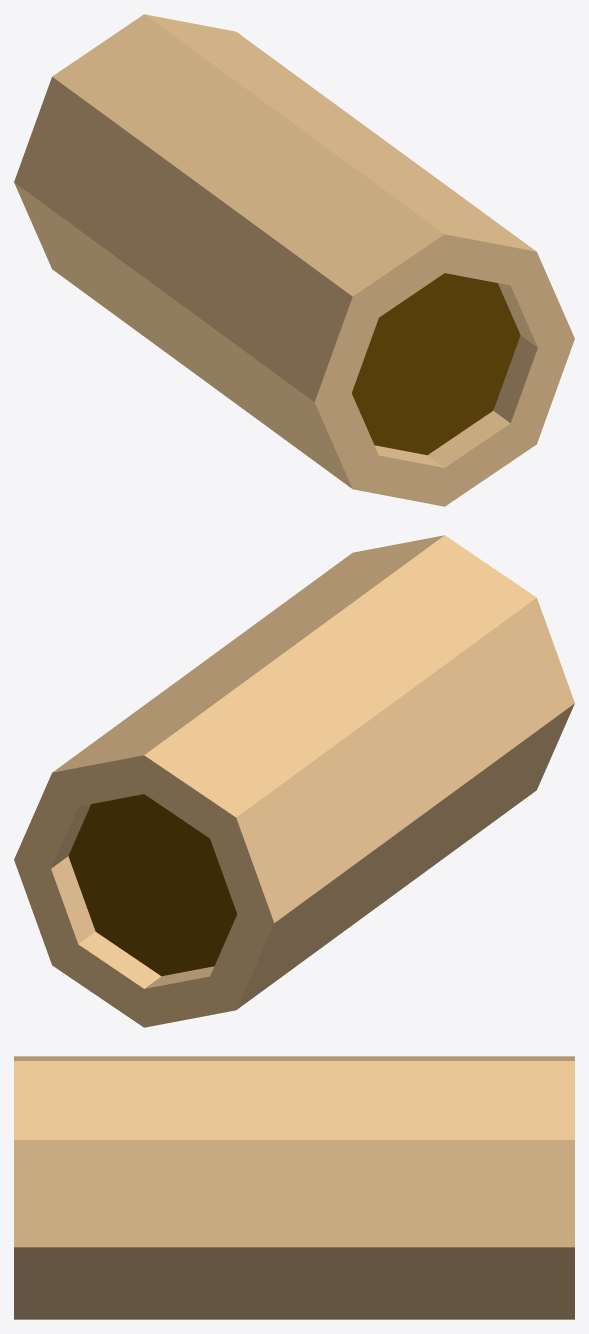
The model's file is Burrito.fbx.
3 views of the same model, one above another, from view 1: azimuth 30°, elevation 25°; view 2: azimuth 150°, elevation 25°; view 3: azimuth 270°, elevation 25° (orthographic). The views are drawn at different scales.
Parts seen in each view (by area): view 1: Burrito; view 2: Burrito; view 3: Burrito.
Part boxes in pixels (x1=…): Burrito: x1=14, y1=14, x2=574, y2=506; Burrito: x1=14, y1=535, x2=574, y2=1027; Burrito: x1=14, y1=1056, x2=574, y2=1319.
Bounding box in the file's own units: 5.6 × 5.6 × 11.2.
